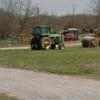Tractor: (26, 17, 75, 52)
